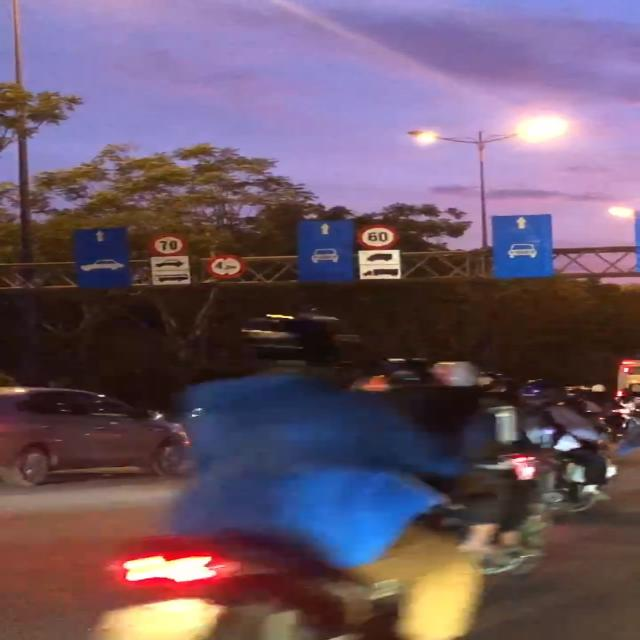Bien bao han che chieu cao: (206, 255, 248, 280)
Bien bao toc do toi da cho phep: (356, 224, 398, 250), (146, 234, 189, 257)
